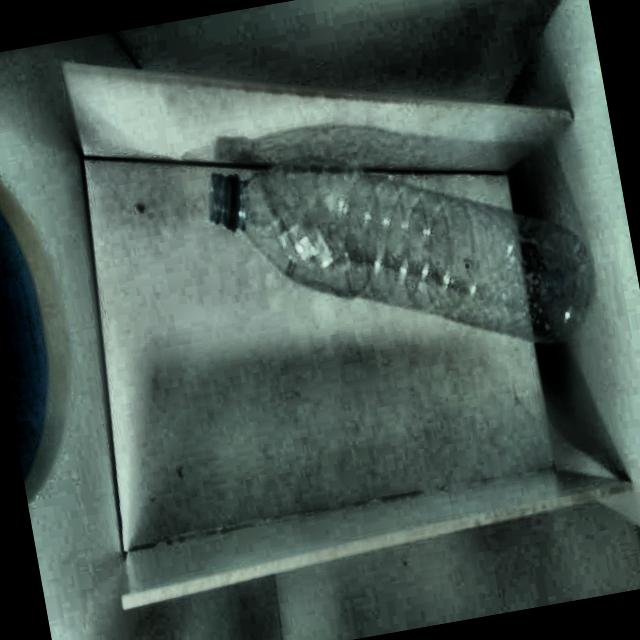plastic bottle: (211, 168, 592, 343)
